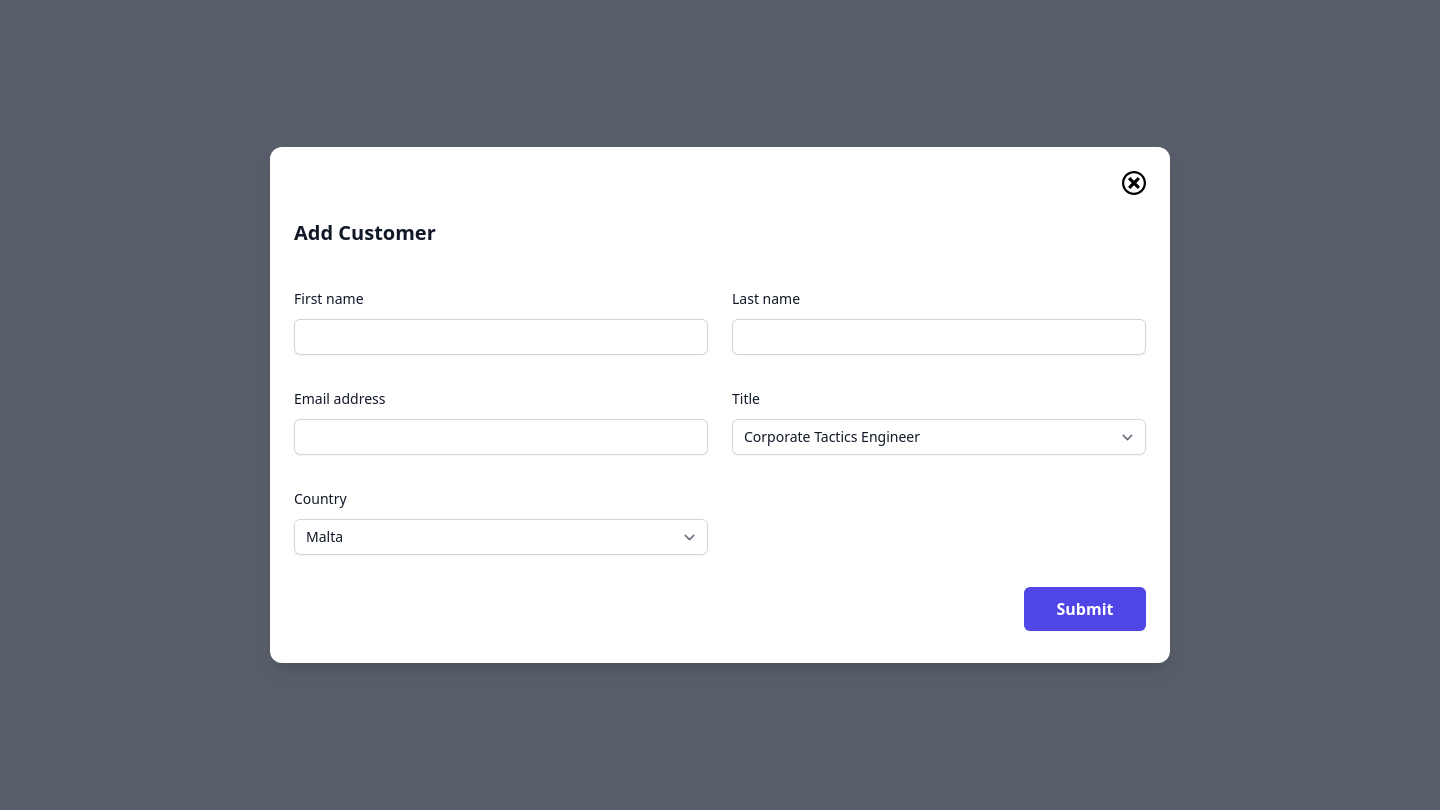
Test FormModal component: Form validation › error occurs when submitting a form that contains non-English alphabets
Type "Dave++" into the field labelled "First name" at (501,337), box [294, 319, 708, 355]
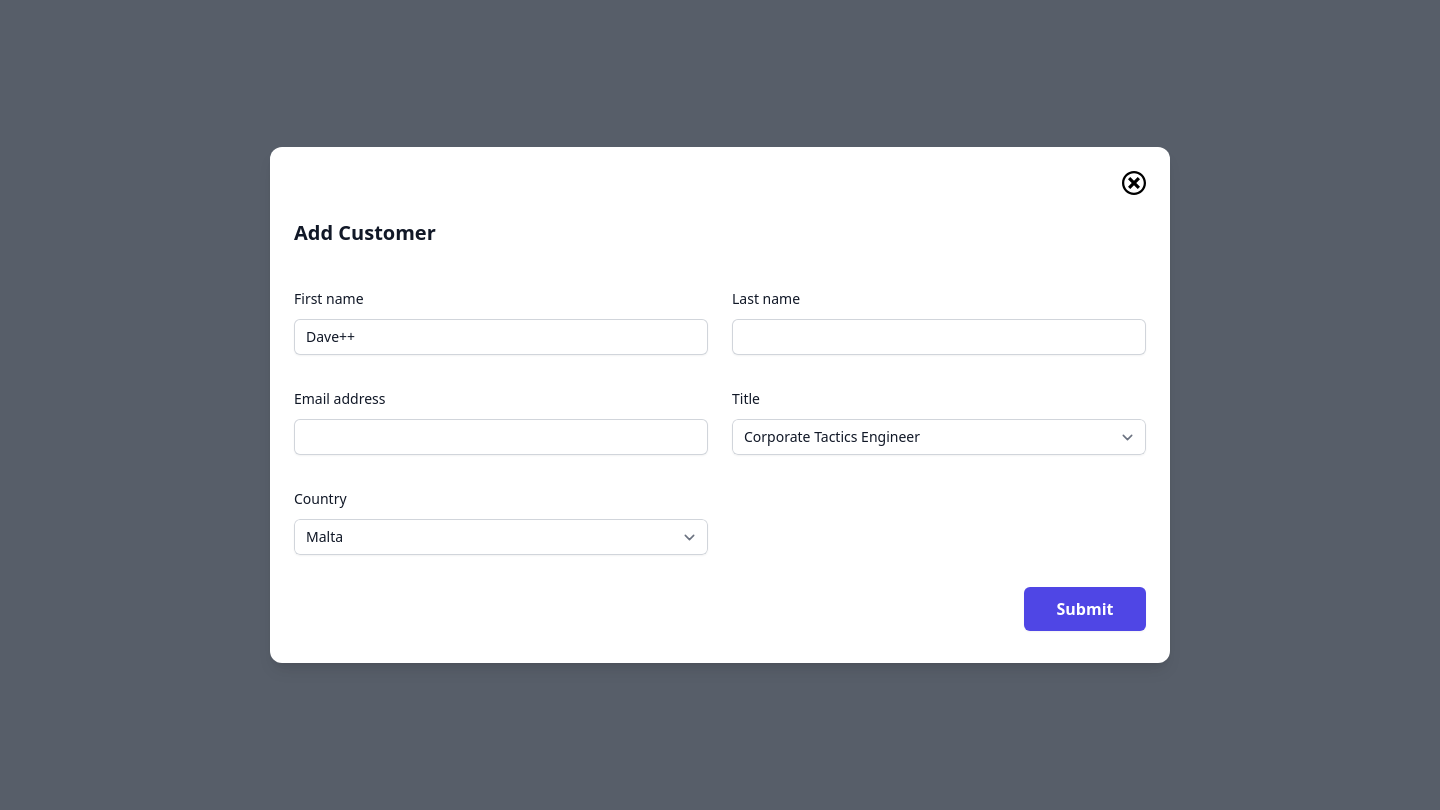
Type "Kruger" into the field labelled "Last name" at (939,337), box [732, 319, 1146, 355]
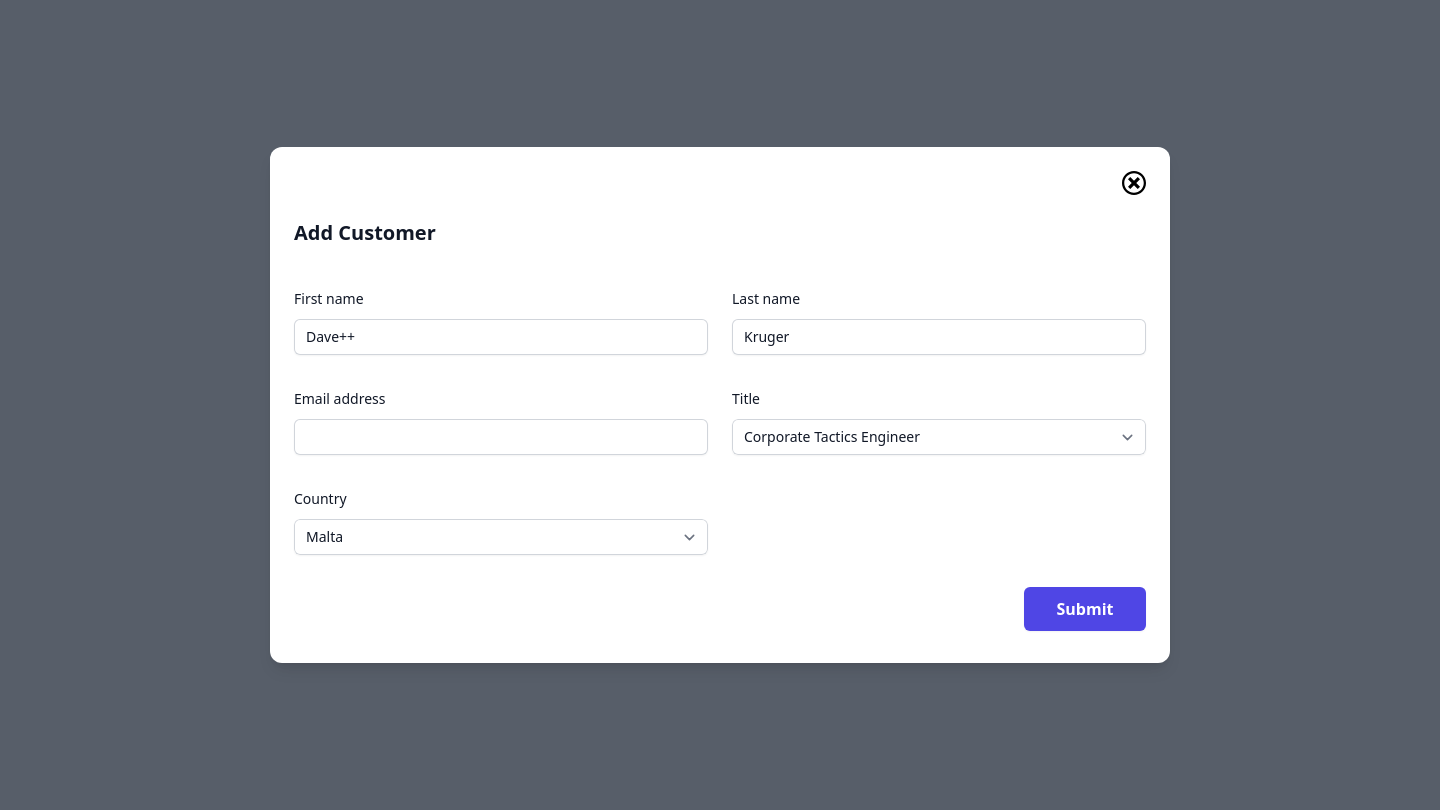
Type "dave.kruger@example.com" into the field labelled "Email address" at (501,437), box [294, 419, 708, 455]
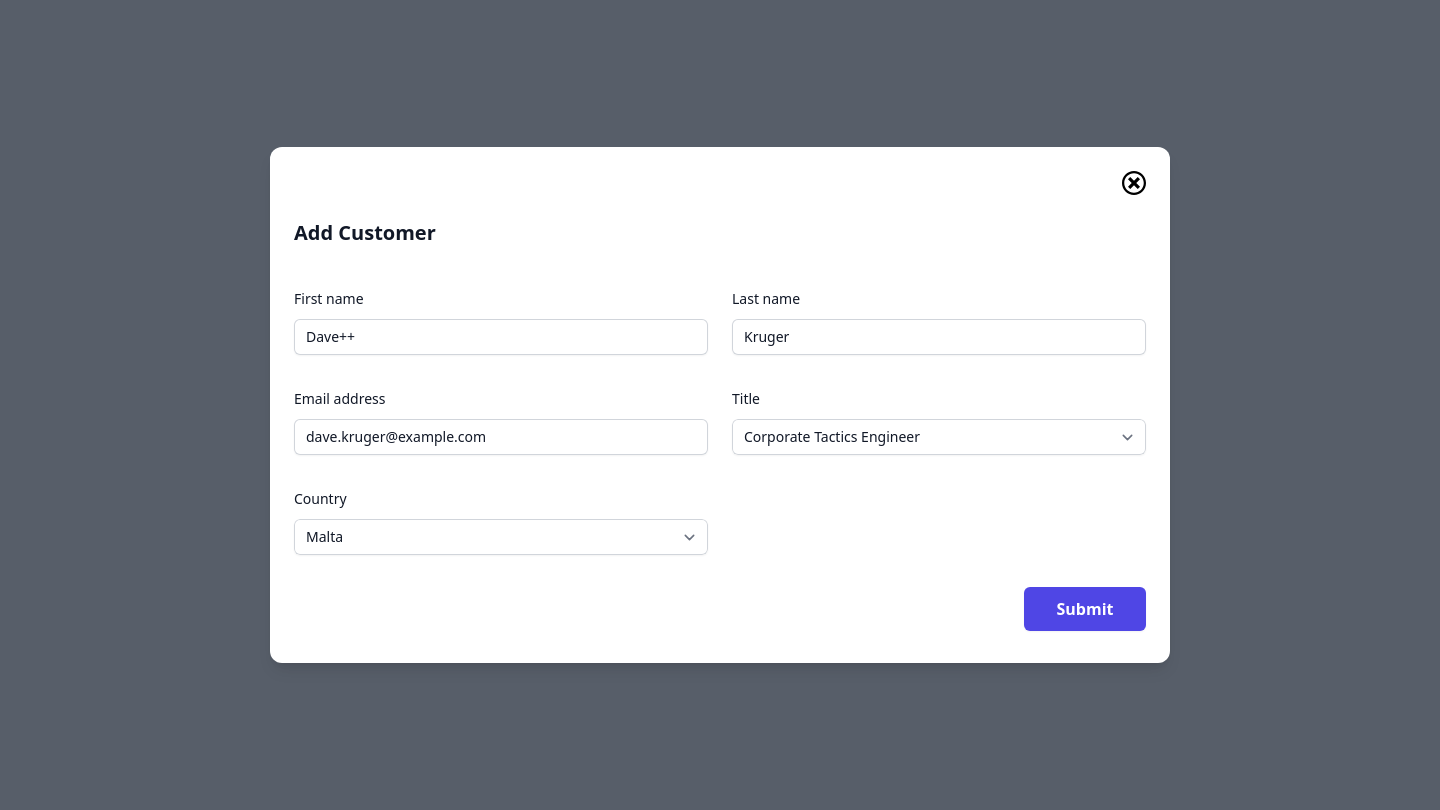
Select "Corporate Tactics Engineer" in the dropdown labelled "Title" at (939,437), box [732, 419, 1146, 455]
Select "Malta" in the dropdown labelled "Country" at (501,537), box [294, 519, 708, 555]
Click the button "Submit" at (1085,609), box [1024, 587, 1146, 631]
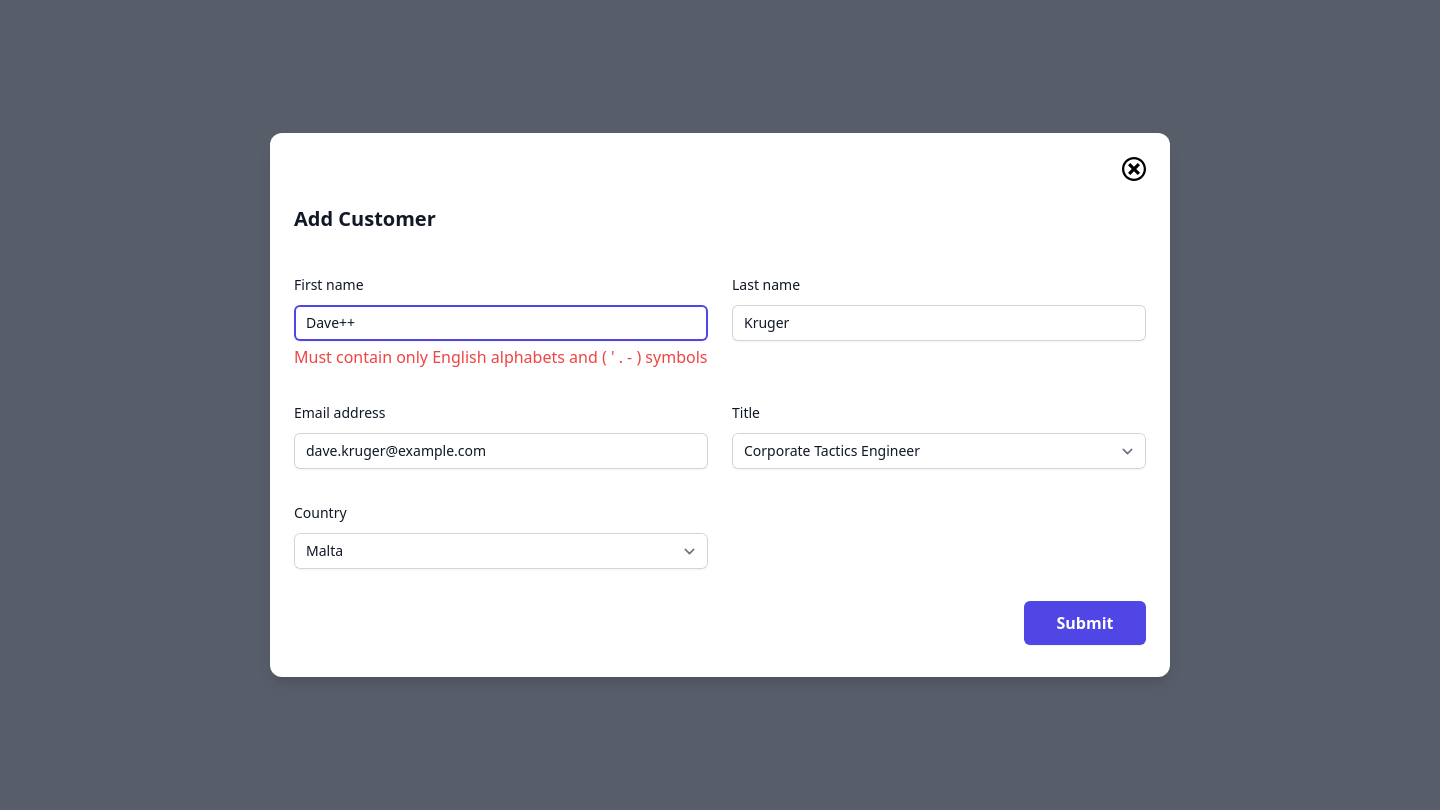
Check: the text with test id "first-name-error" reads "Must contain only English alphabets and ( ' . - ) symbols", box [294, 346, 708, 368]
